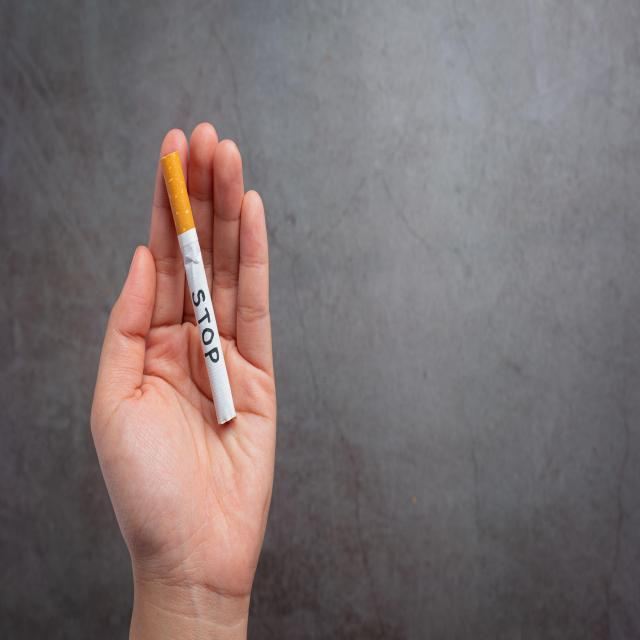cigarette: (161, 151, 235, 427)
